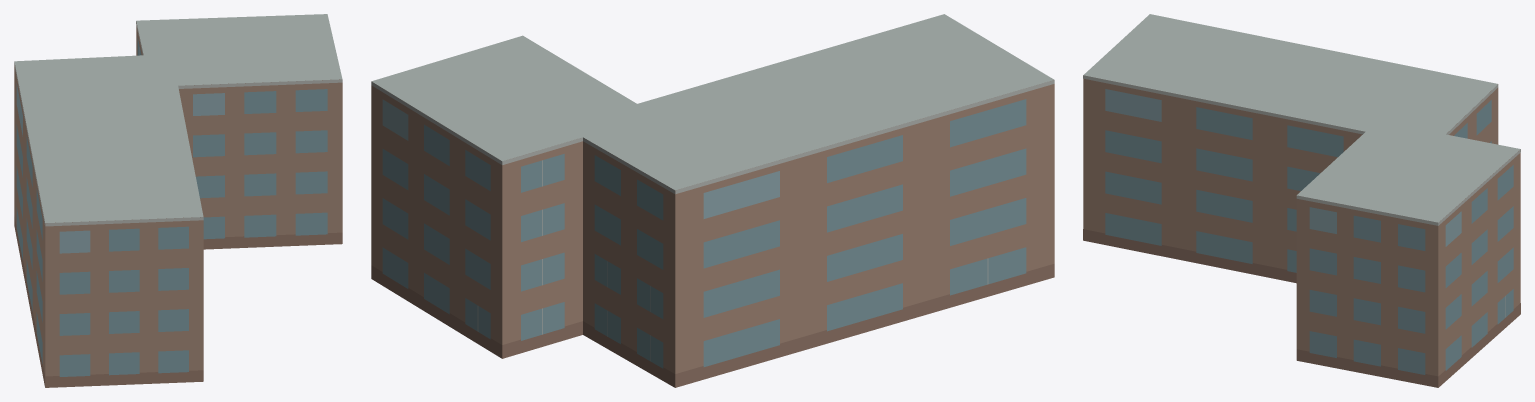
Rendered from survey-upis-32738491.glb.
3 views of the same model, side by side, from view 1: azimuth 30°, elevation 25°; view 2: azimuth 150°, elevation 25°; view 3: azimuth 270°, elevation 25° (orthographic). The views are drawn at different scales.
Parts seen in each view (by area): view 1: survey-upis-32738491.tmp; view 2: survey-upis-32738491.tmp; view 3: survey-upis-32738491.tmp.
Part boxes in pixels (x1,y1,x2,y2): survey-upis-32738491.tmp: [14, 14, 342, 387]; survey-upis-32738491.tmp: [371, 14, 1054, 387]; survey-upis-32738491.tmp: [1083, 14, 1520, 387].
Size of the model in its own units: 33.03 by 12.2 by 29.28.
